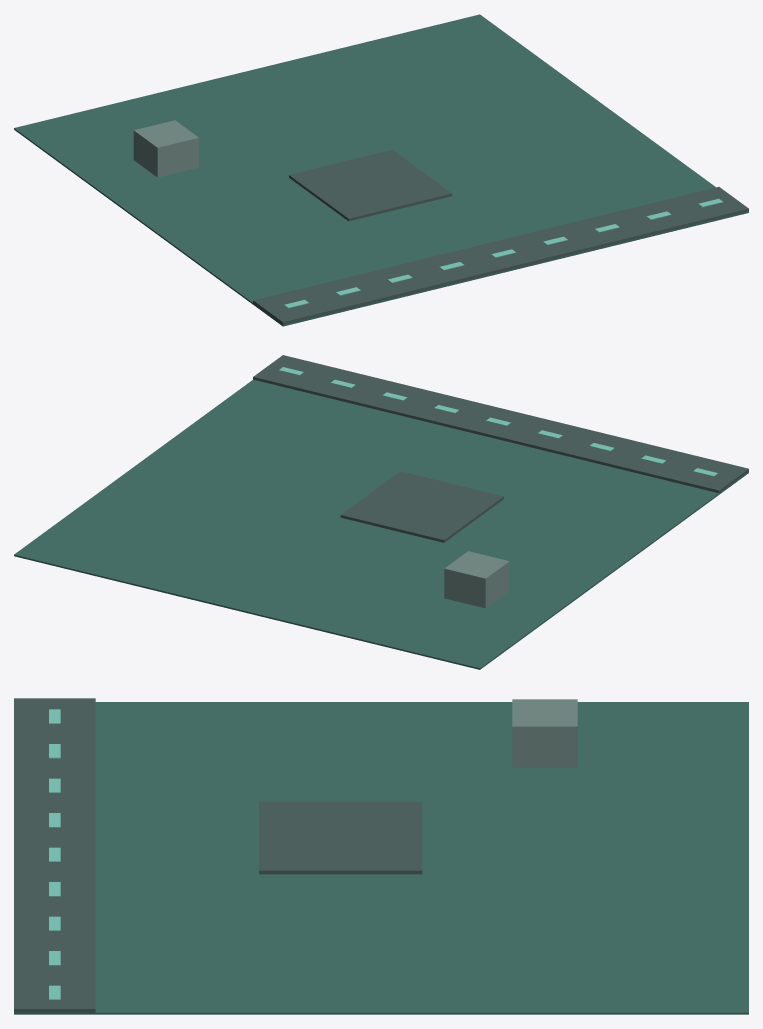
File: stage_02.glb
3 views of the same model, one above another, from view 1: azimuth 30°, elevation 25°; view 2: azimuth 150°, elevation 25°; view 3: azimuth 270°, elevation 25° (orthographic). The views are drawn at different scales.
Visible parts, largest first — view 1: geometry_0; view 2: geometry_0; view 3: geometry_0.
Part boxes in pixels (x1,y1,x2,y2): geometry_0: [14, 14, 748, 326]; geometry_0: [14, 355, 748, 669]; geometry_0: [14, 698, 748, 1014].
Size of the model in its own units: 9 by 0.58 by 9.
